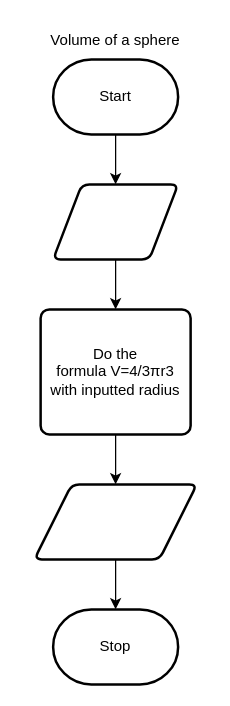
Some shapes in this 230 by 706 pixel diagram are drawn without their labels. The centre of each missing label's shape, as x and y in pixels:
"Input radius" goes at pixel 115 221.
"Show calculated volume" goes at pixel 115 521.
